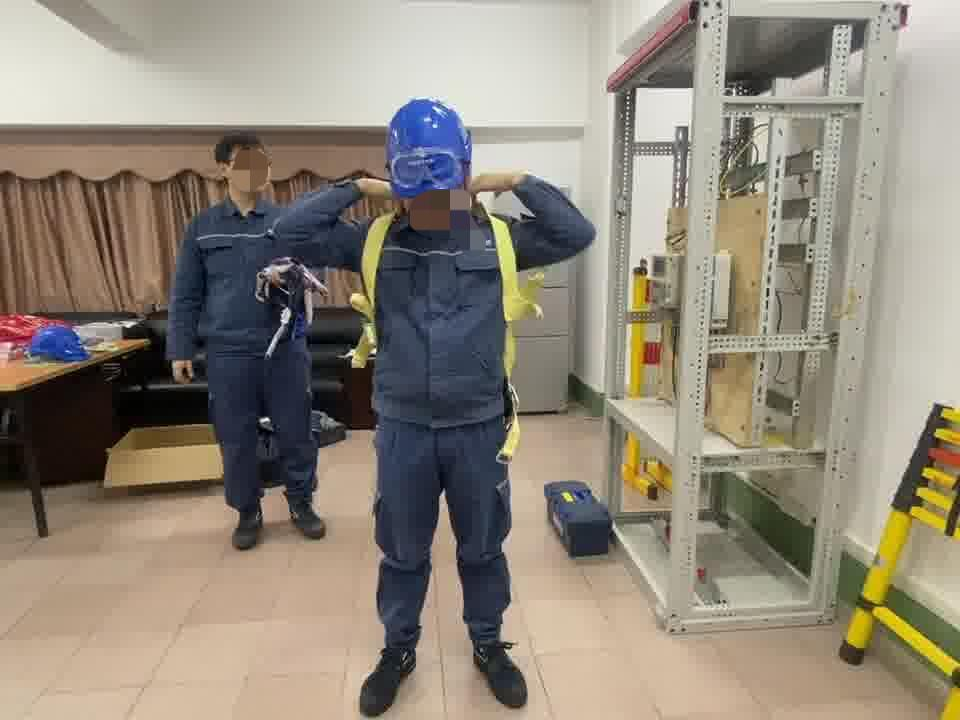halt: (386, 100, 477, 222)
noear: (218, 153, 241, 190)
unhalt: (217, 131, 278, 207)
